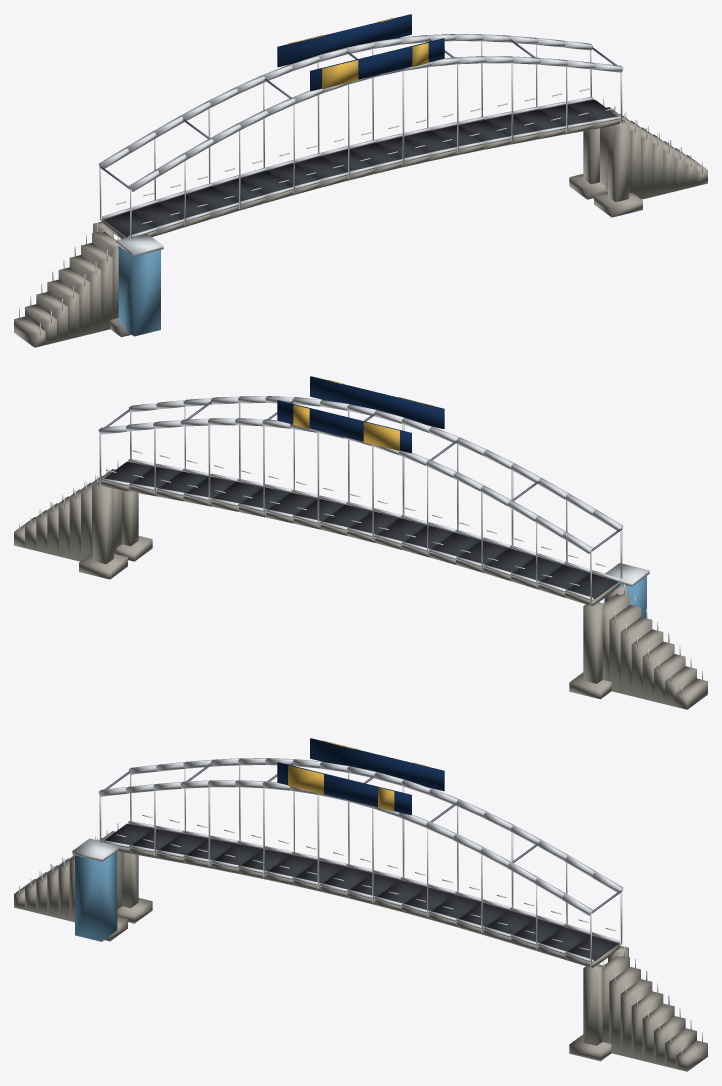
The model's file is eifel_warsteiner_flyover_bridge.glb.
3 views of the same model, one above another, from view 1: azimuth 30°, elevation 25°; view 2: azimuth 150°, elevation 25°; view 3: azimuth 330°, elevation 25° (orthographic).
Visible parts, largest first — view 1: Surface_concrete, Surface_steel, Surface_asphalt, Surface_banner, Surface_glass, Surface_banner_gold, Surface_steel_dark; view 2: Surface_concrete, Surface_steel, Surface_asphalt, Surface_banner, Surface_banner_gold, Surface_glass, Surface_steel_dark; view 3: Surface_concrete, Surface_steel, Surface_asphalt, Surface_banner, Surface_glass, Surface_banner_gold, Surface_steel_dark.
Boxes of the visible parts, x1,y1,x2,y2 form: Surface_concrete: (14, 99, 707, 347); Surface_steel: (19, 34, 702, 335); Surface_asphalt: (104, 100, 617, 236); Surface_banner: (277, 14, 444, 91); Surface_glass: (118, 246, 160, 336); Surface_banner_gold: (288, 18, 428, 88); Surface_steel_dark: (100, 38, 617, 189); Surface_concrete: (14, 461, 707, 709); Surface_steel: (19, 396, 702, 697); Surface_asphalt: (104, 462, 617, 598); Surface_banner: (277, 376, 444, 453); Surface_banner_gold: (293, 380, 433, 450); Surface_glass: (604, 576, 646, 617); Surface_steel_dark: (104, 400, 621, 551); Surface_concrete: (14, 823, 707, 1071); Surface_steel: (19, 758, 702, 1059); Surface_asphalt: (104, 824, 617, 960); Surface_banner: (277, 738, 444, 815); Surface_glass: (75, 851, 117, 941); Surface_banner_gold: (288, 740, 428, 811); Surface_steel_dark: (104, 762, 621, 913).
Size of the model in its own units: 60.4 by 18.45 by 8.05.
